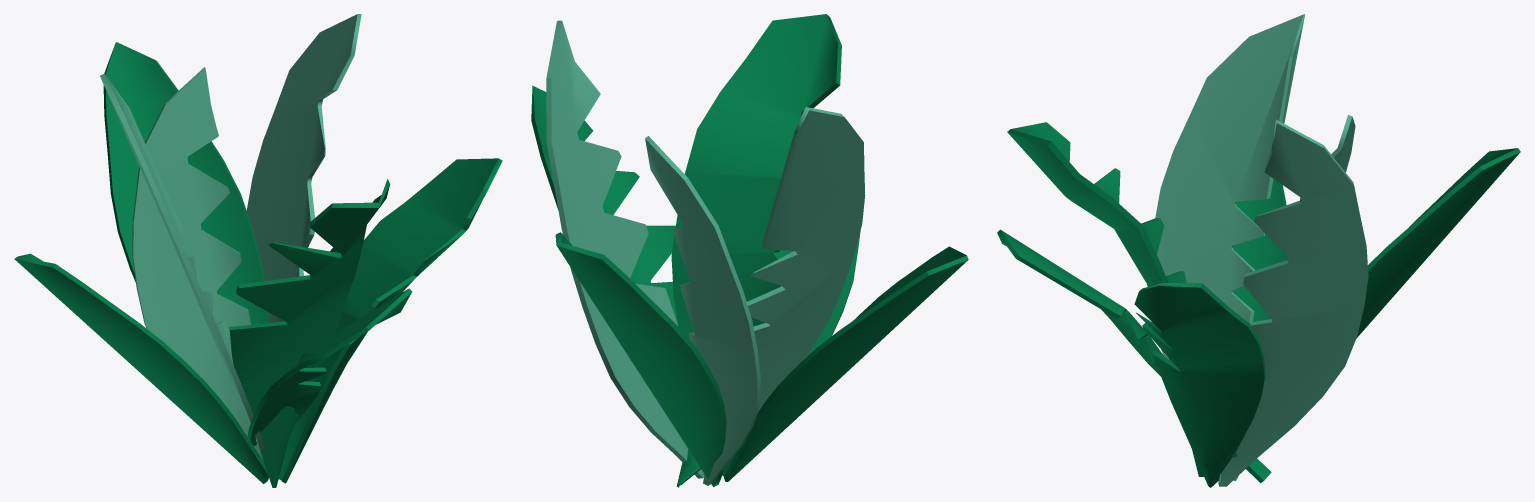
File: gras1.fbx
3 renders of one model, left to right at view 1: azimuth 30°, elevation 25°; view 2: azimuth 150°, elevation 25°; view 3: azimuth 270°, elevation 25°, orthographic. The views are drawn at different scales.
Visible parts, largest first — view 1: _1_strangebush:group2__1_strangebush:group1__1_strangebush:p; view 2: _1_strangebush:group2__1_strangebush:group1__1_strangebush:p; view 3: _1_strangebush:group2__1_strangebush:group1__1_strangebush:p.
Boxes of the visible parts, box(x1,y1,x2,y2) form: _1_strangebush:group2__1_strangebush:group1__1_strangebush:p: box(14, 14, 502, 487); _1_strangebush:group2__1_strangebush:group1__1_strangebush:p: box(531, 14, 968, 487); _1_strangebush:group2__1_strangebush:group1__1_strangebush:p: box(997, 14, 1520, 487).
Bounding box in the file's own units: 119 × 107 × 121.
